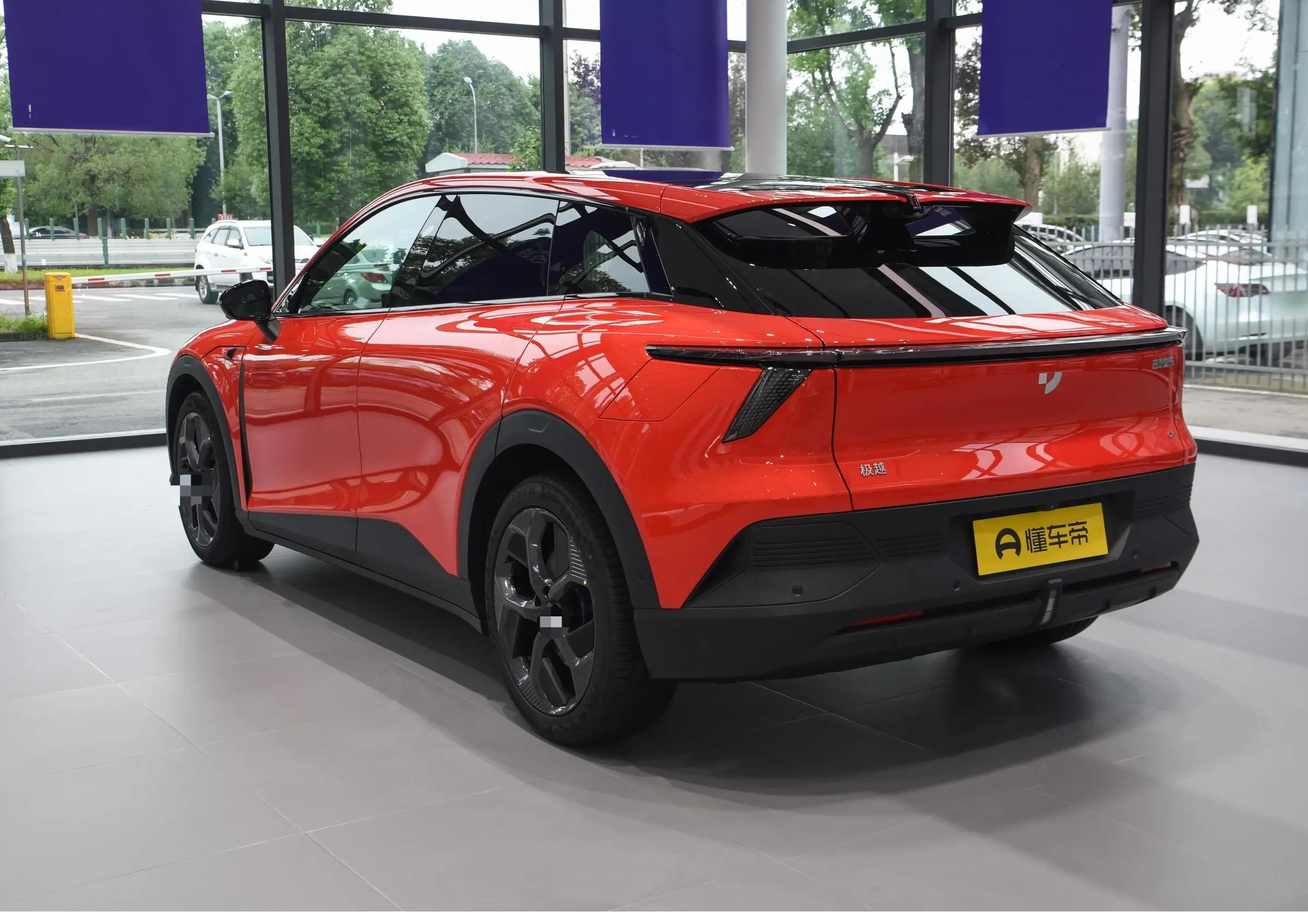JIYUE: (1037, 370, 1063, 394)
